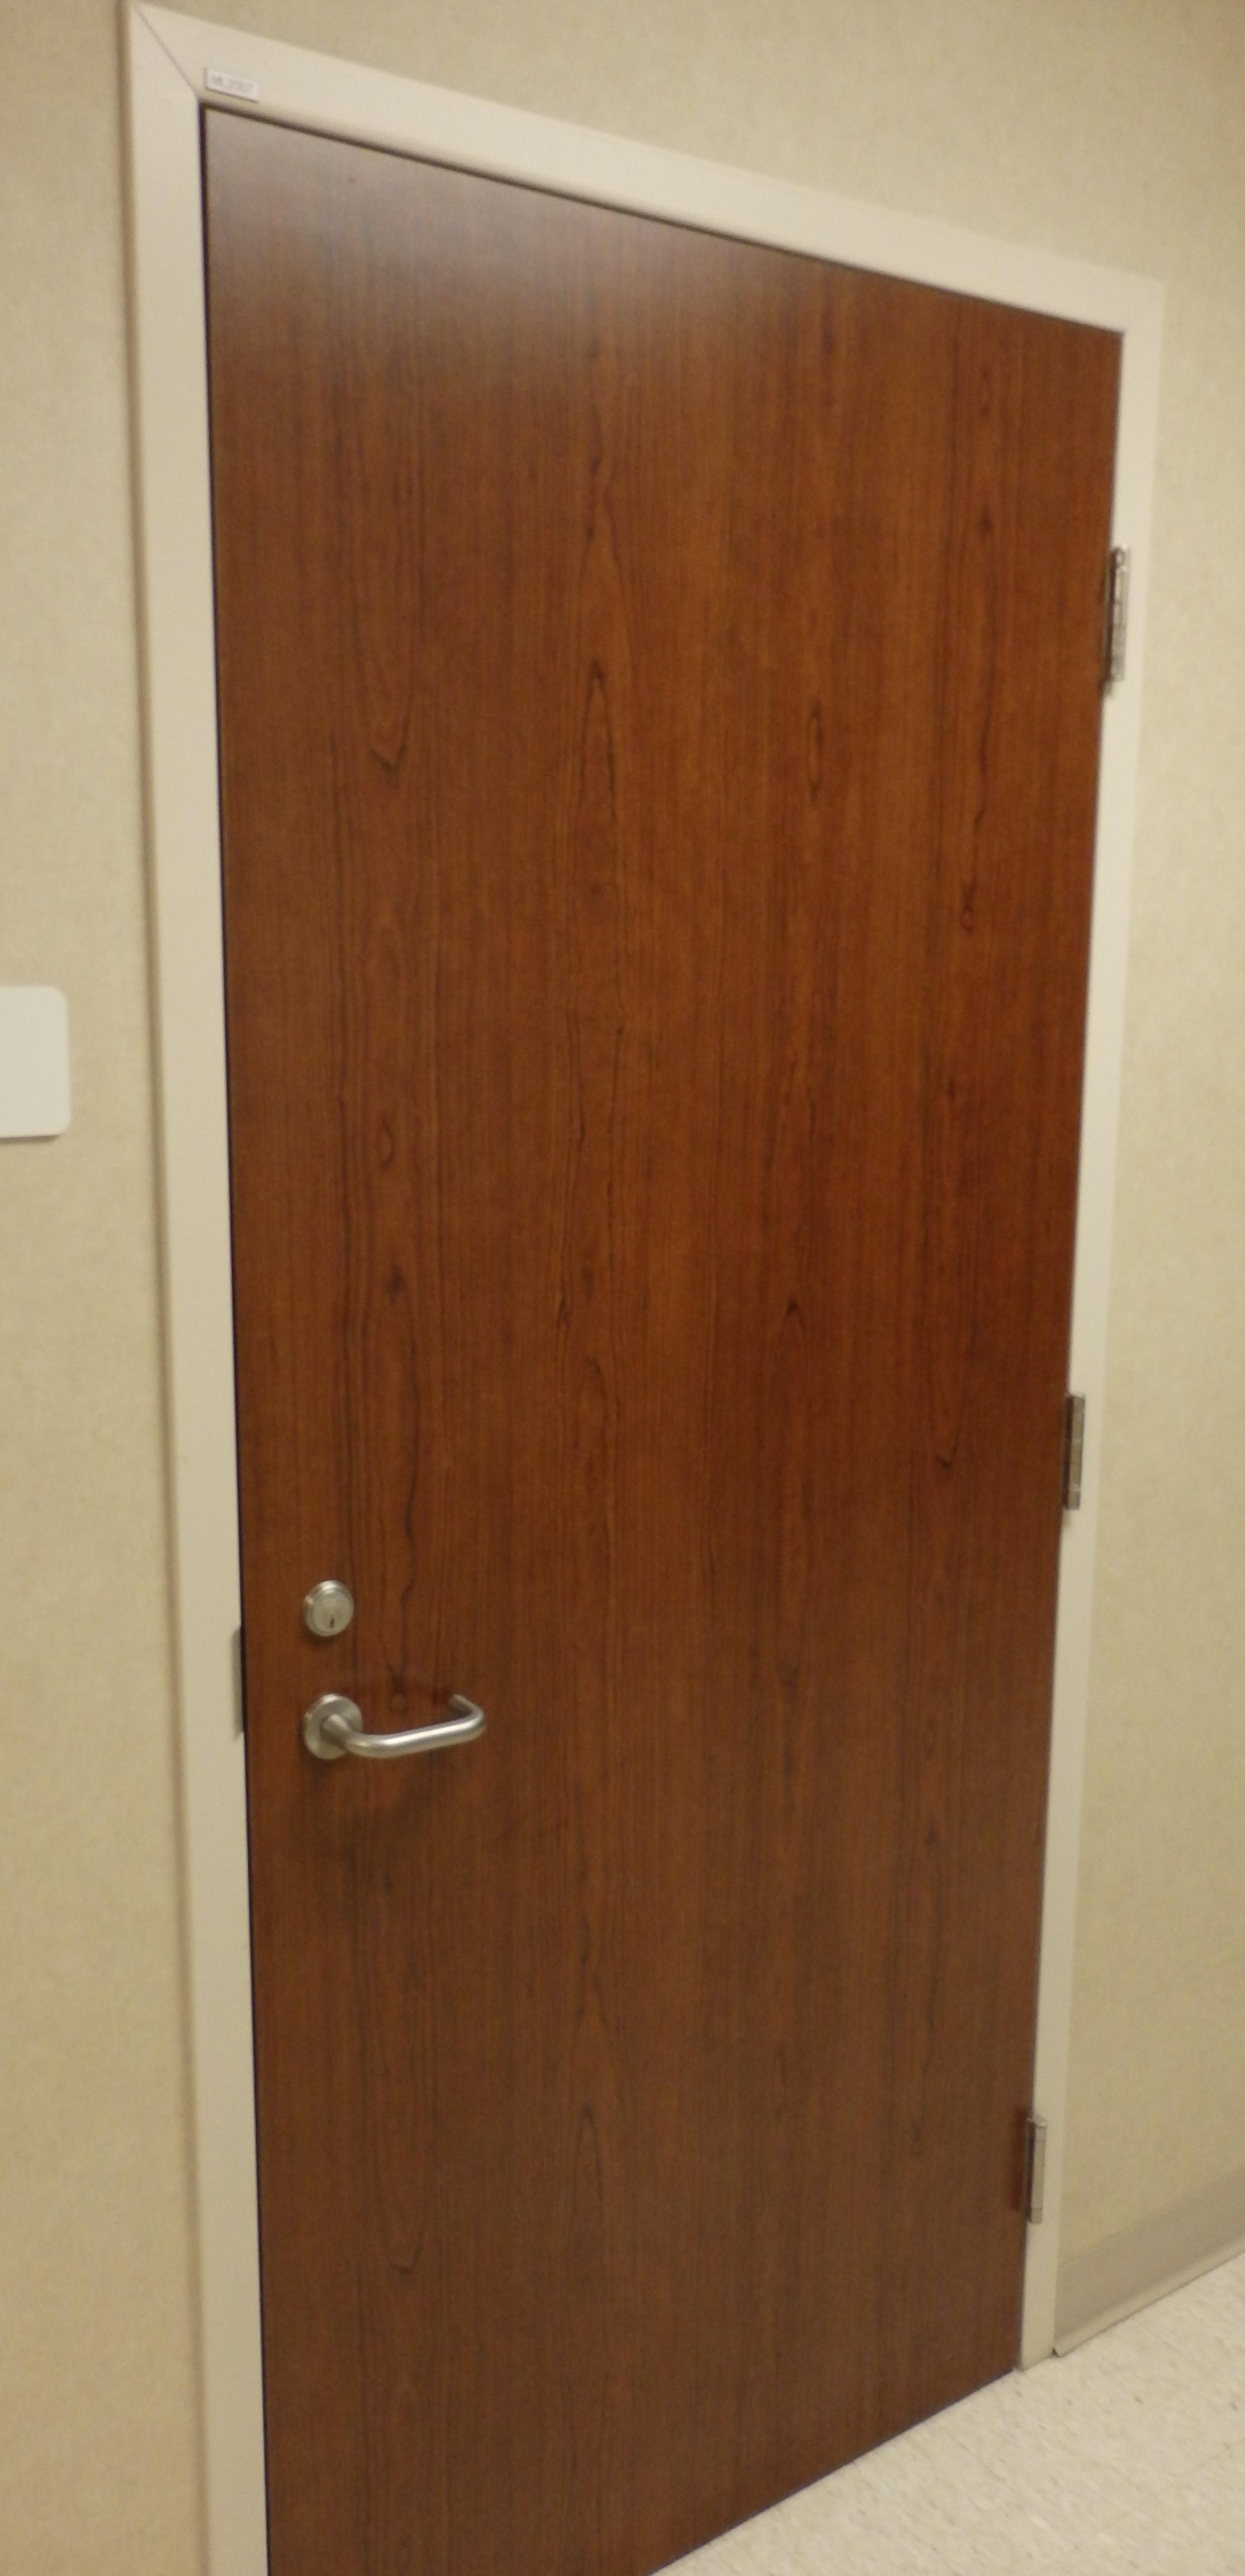door: (153, 71, 1114, 2545)
